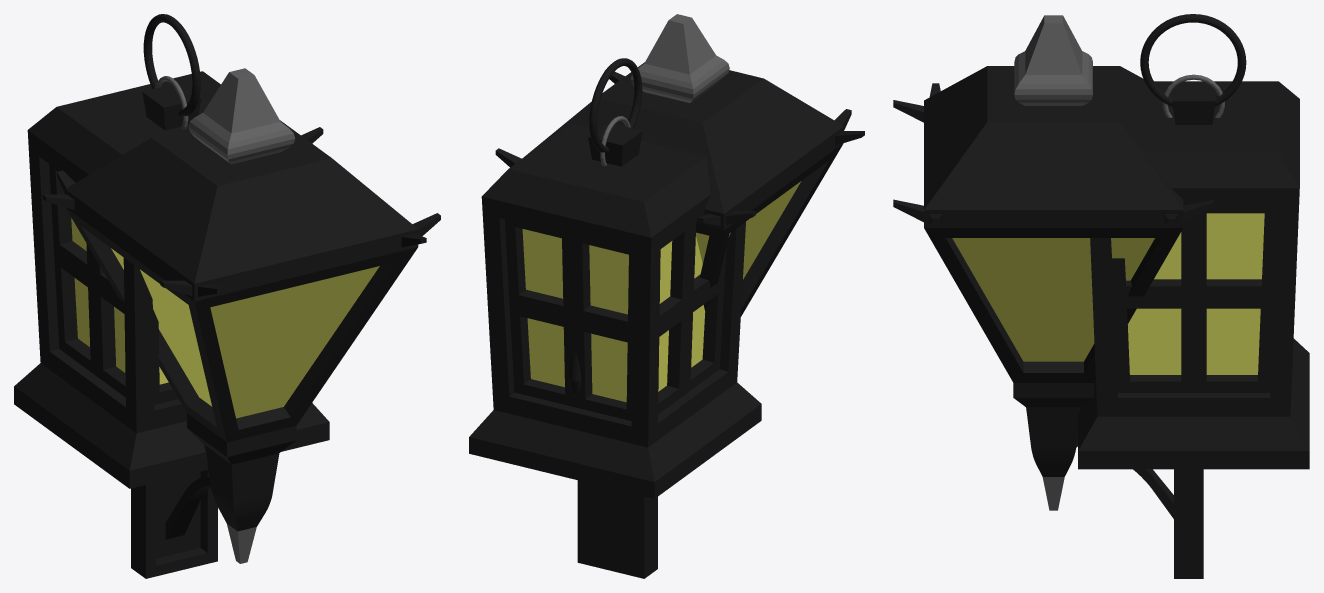
Rendered from Project02_Lanterns.fbx.
3 renders of one model, left to right at view 1: azimuth 30°, elevation 25°; view 2: azimuth 150°, elevation 25°; view 3: azimuth 270°, elevation 25°, orthographic. The views are drawn at different scales.
Visible parts, largest first — view 1: Lantern_02, Lantern_03; view 2: Lantern_03, Lantern_02, Lantern_01; view 3: Lantern_02, Lantern_03, Lantern_01.
Part boxes in pixels (<box>): Lantern_02: <box>42,68,440,578</box>; Lantern_03: <box>14,14,329,488</box>; Lantern_03: <box>469,58,761,498</box>; Lantern_02: <box>495,14,864,578</box>; Lantern_01: <box>569,116,630,395</box>; Lantern_02: <box>893,15,1214,578</box>; Lantern_03: <box>1078,14,1309,469</box>; Lantern_01: <box>1162,74,1224,117</box>.
Size of the model in its own units: 82.04 by 154 by 106.
